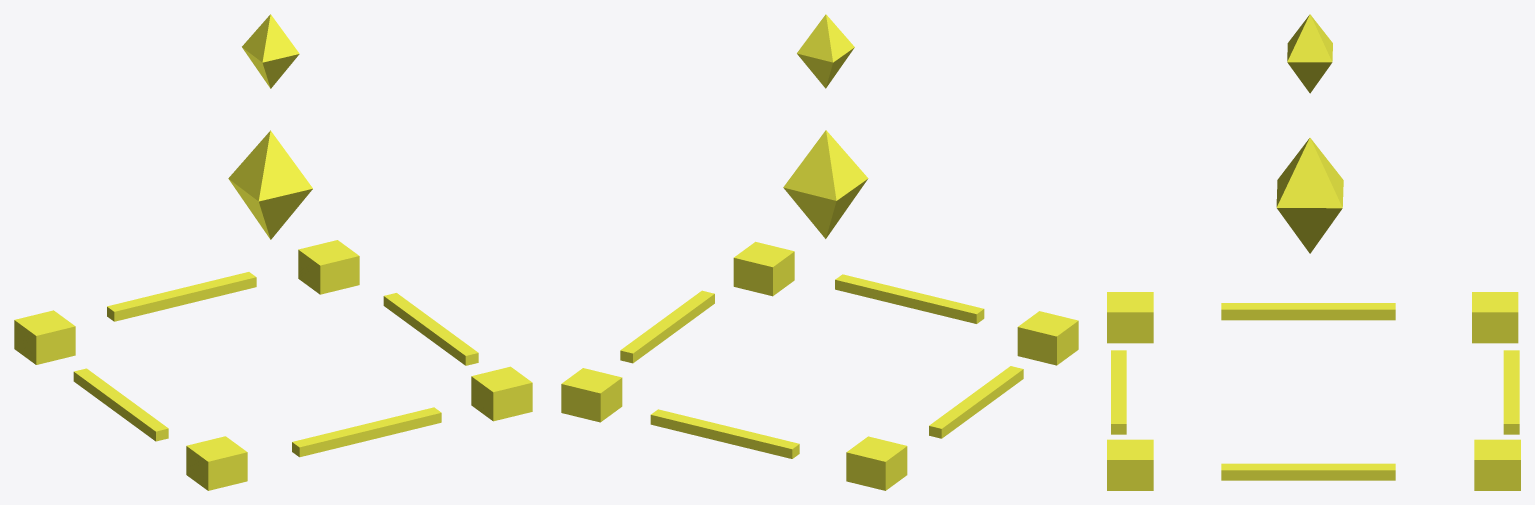
File: archertower_veteran.fbx
The picture shows the model from 3 angles, left to right: view 1: azimuth 30°, elevation 25°; view 2: azimuth 150°, elevation 25°; view 3: azimuth 270°, elevation 25°; orthographic projection. The views are drawn at different scales.
Parts seen in each view (by area): view 1: polySurface104; view 2: polySurface104; view 3: polySurface104.
Part boxes in pixels (left/top/right/bottom): polySurface104: left=14, top=14, right=532, bottom=490; polySurface104: left=561, top=14, right=1078, bottom=490; polySurface104: left=1107, top=14, right=1520, bottom=490.
Bounding box in the file's own units: 71 × 77.04 × 73.9.
Materials: 1 (1 with a texture image).
